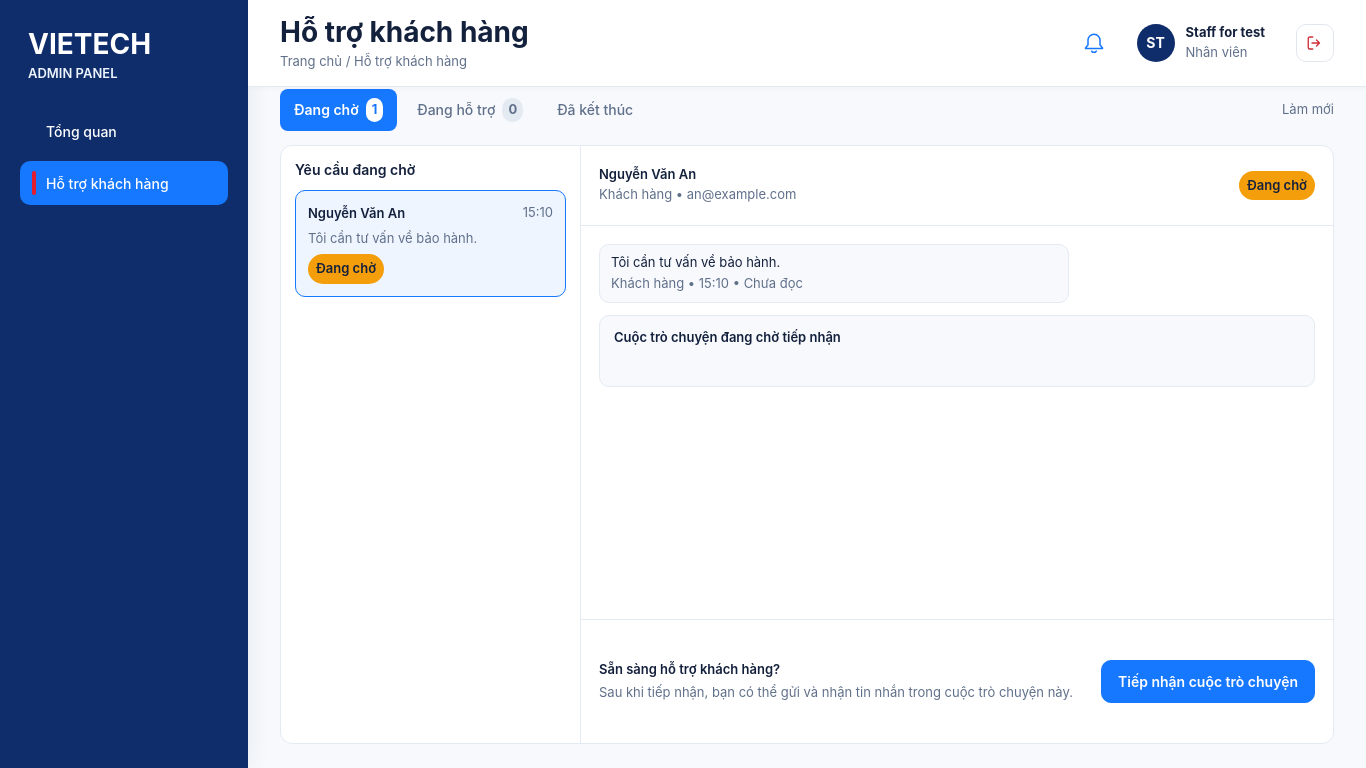
staff claims then replies through existing endpoints; repeated clicks cannot duplicate writes
(page scrolled)
Click the button "Tiếp nhận cuộc trò chuyện": (1208, 681) [1101,660,1315,703]
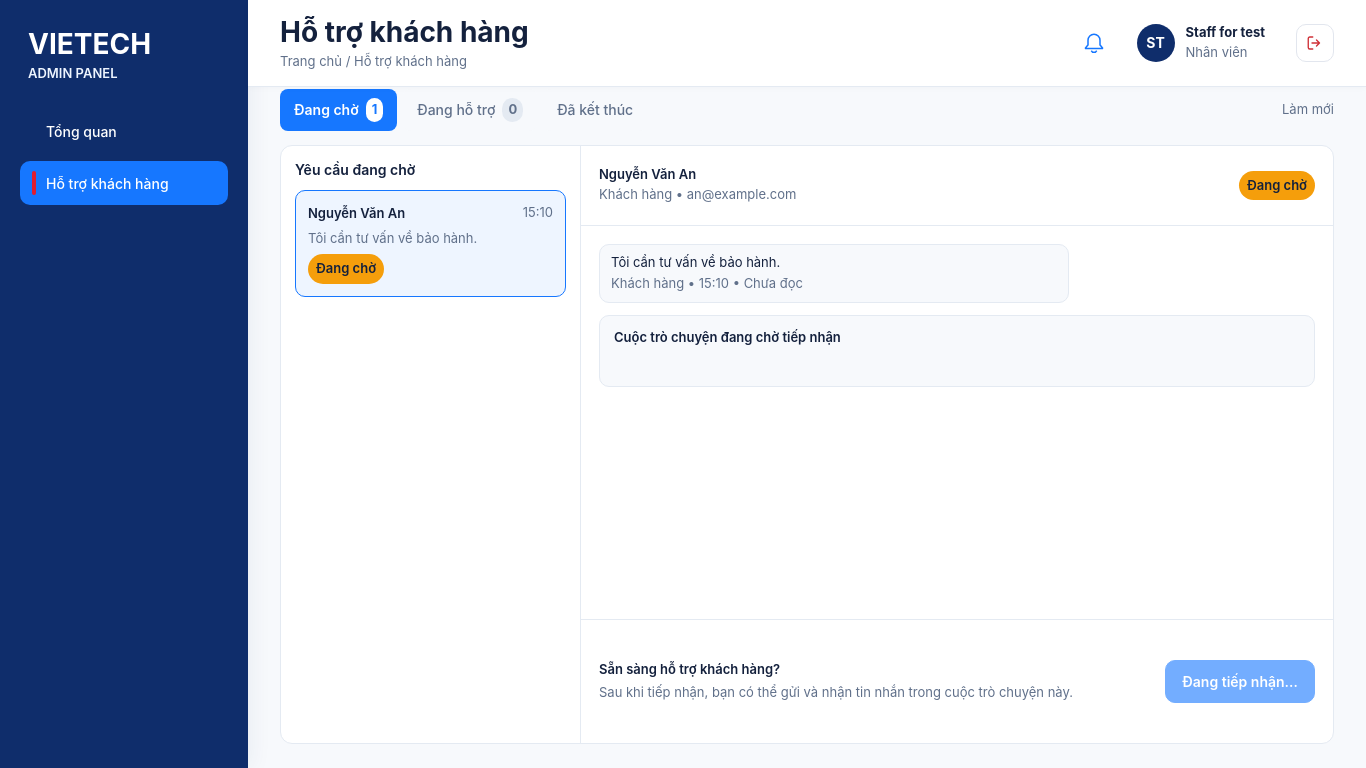
Click the button named "Tiếp nhận cuộc trò chuyện": (1240, 681) [1165,660,1315,703]
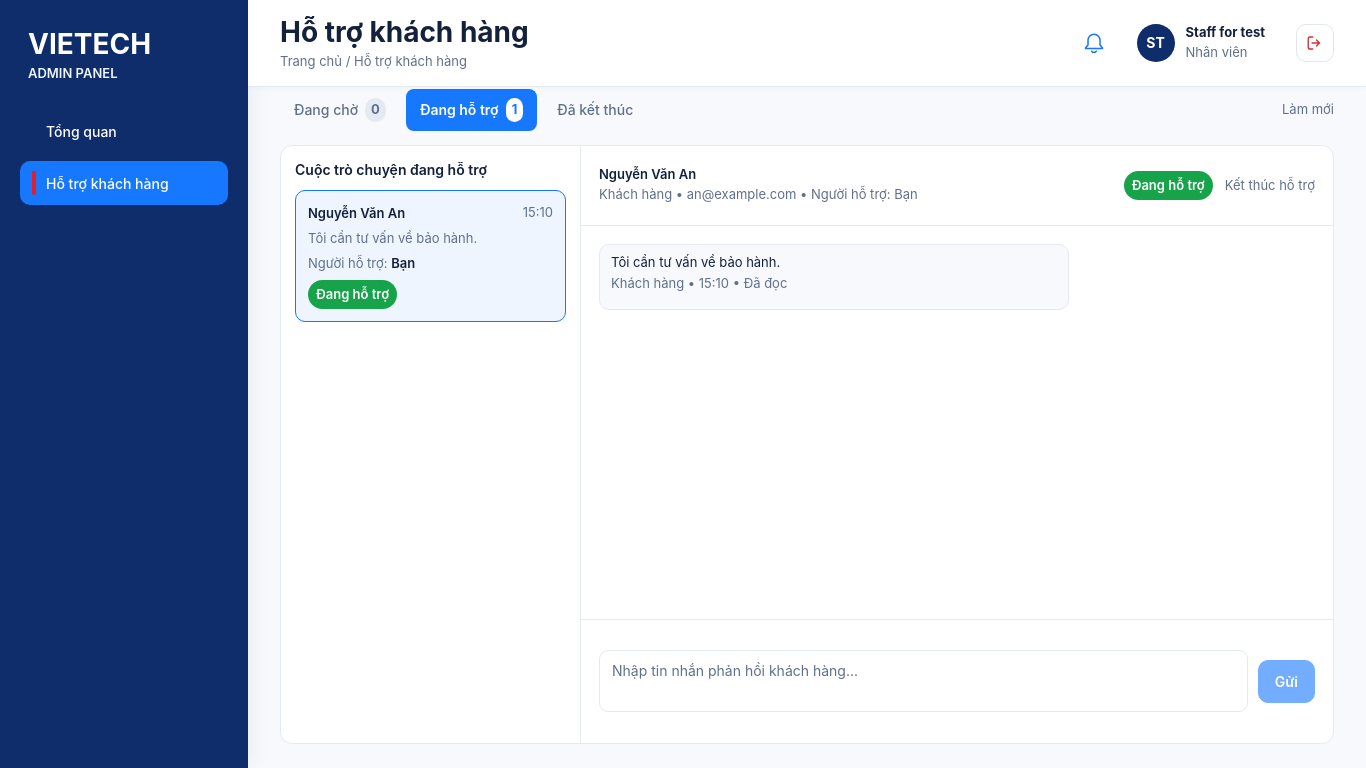
In the text box named "Tin nhắn trả lời": (923, 681) [599,650,1248,712], type "  Xin chào bạn  "
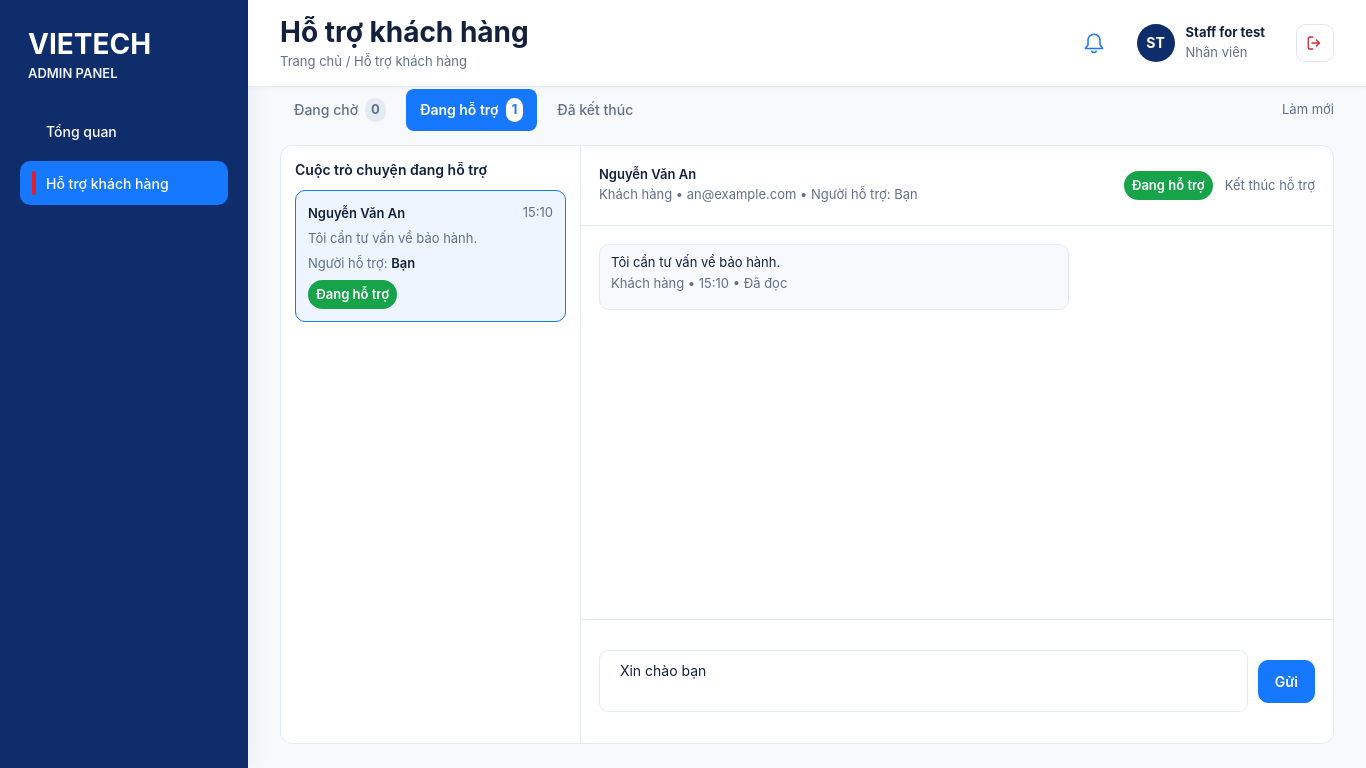
Click the button with aria-label "Gửi tin nhắn": (1286, 681) [1258,660,1315,703]
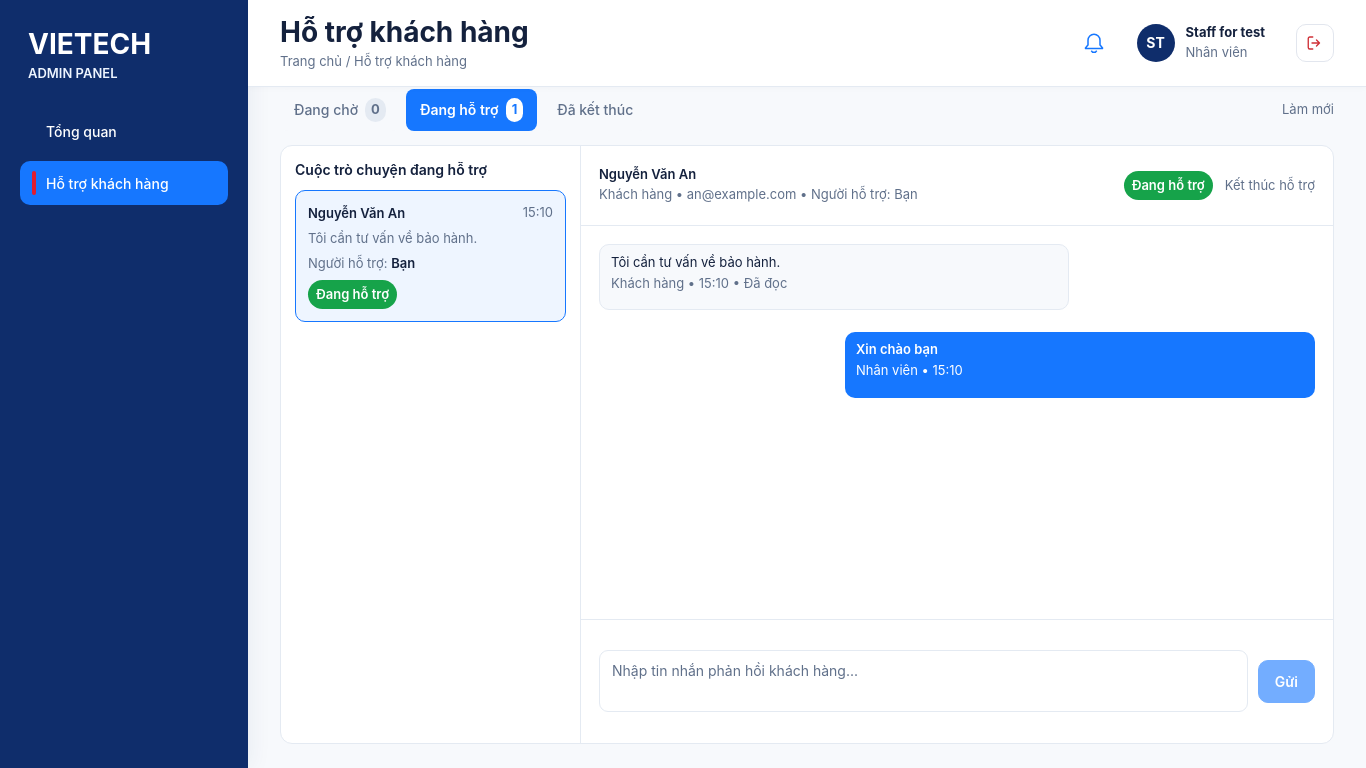
Now the text "Xin chào bạn" is shown, box [856,341,938,357]
Now the text box named "Tin nhắn trả lời" is empty, box [599,650,1248,712]
